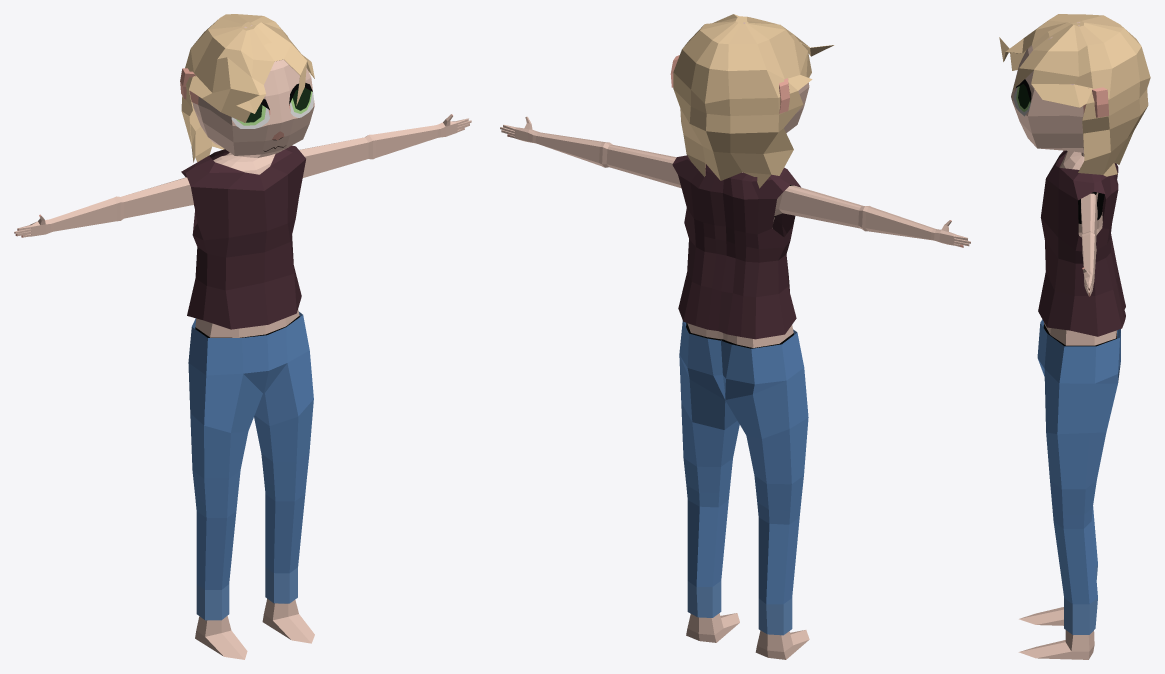
The model's file is Protagonista2.fbx.
The picture shows the model from 3 angles, left to right: view 1: azimuth 30°, elevation 25°; view 2: azimuth 150°, elevation 25°; view 3: azimuth 270°, elevation 25°; orthographic projection. The views are drawn at different scales.
Parts seen in each view (by area): view 1: Cylinder.002, Cylinder, Cylinder.001, Cylinder.003; view 2: Cylinder.002, Cylinder.003, Cylinder.001, Cylinder; view 3: Cylinder.002, Cylinder.003, Cylinder.001, Cylinder.
Boxes of the visible parts, x1,y1,x2,y2 form: Cylinder.002: (188,311,313,620); Cylinder: (14,25,471,659); Cylinder.001: (181,145,305,329); Cylinder.003: (181,14,314,162); Cylinder.002: (679,320,808,635); Cylinder.003: (673,14,834,188); Cylinder.001: (672,155,800,339); Cylinder: (500,22,970,659); Cylinder.002: (1037,319,1120,634); Cylinder.003: (999,14,1150,176); Cylinder.001: (1038,150,1125,336); Cylinder: (1011,22,1116,659).
Size of the model in its own units: 144 by 183 by 40.83.
